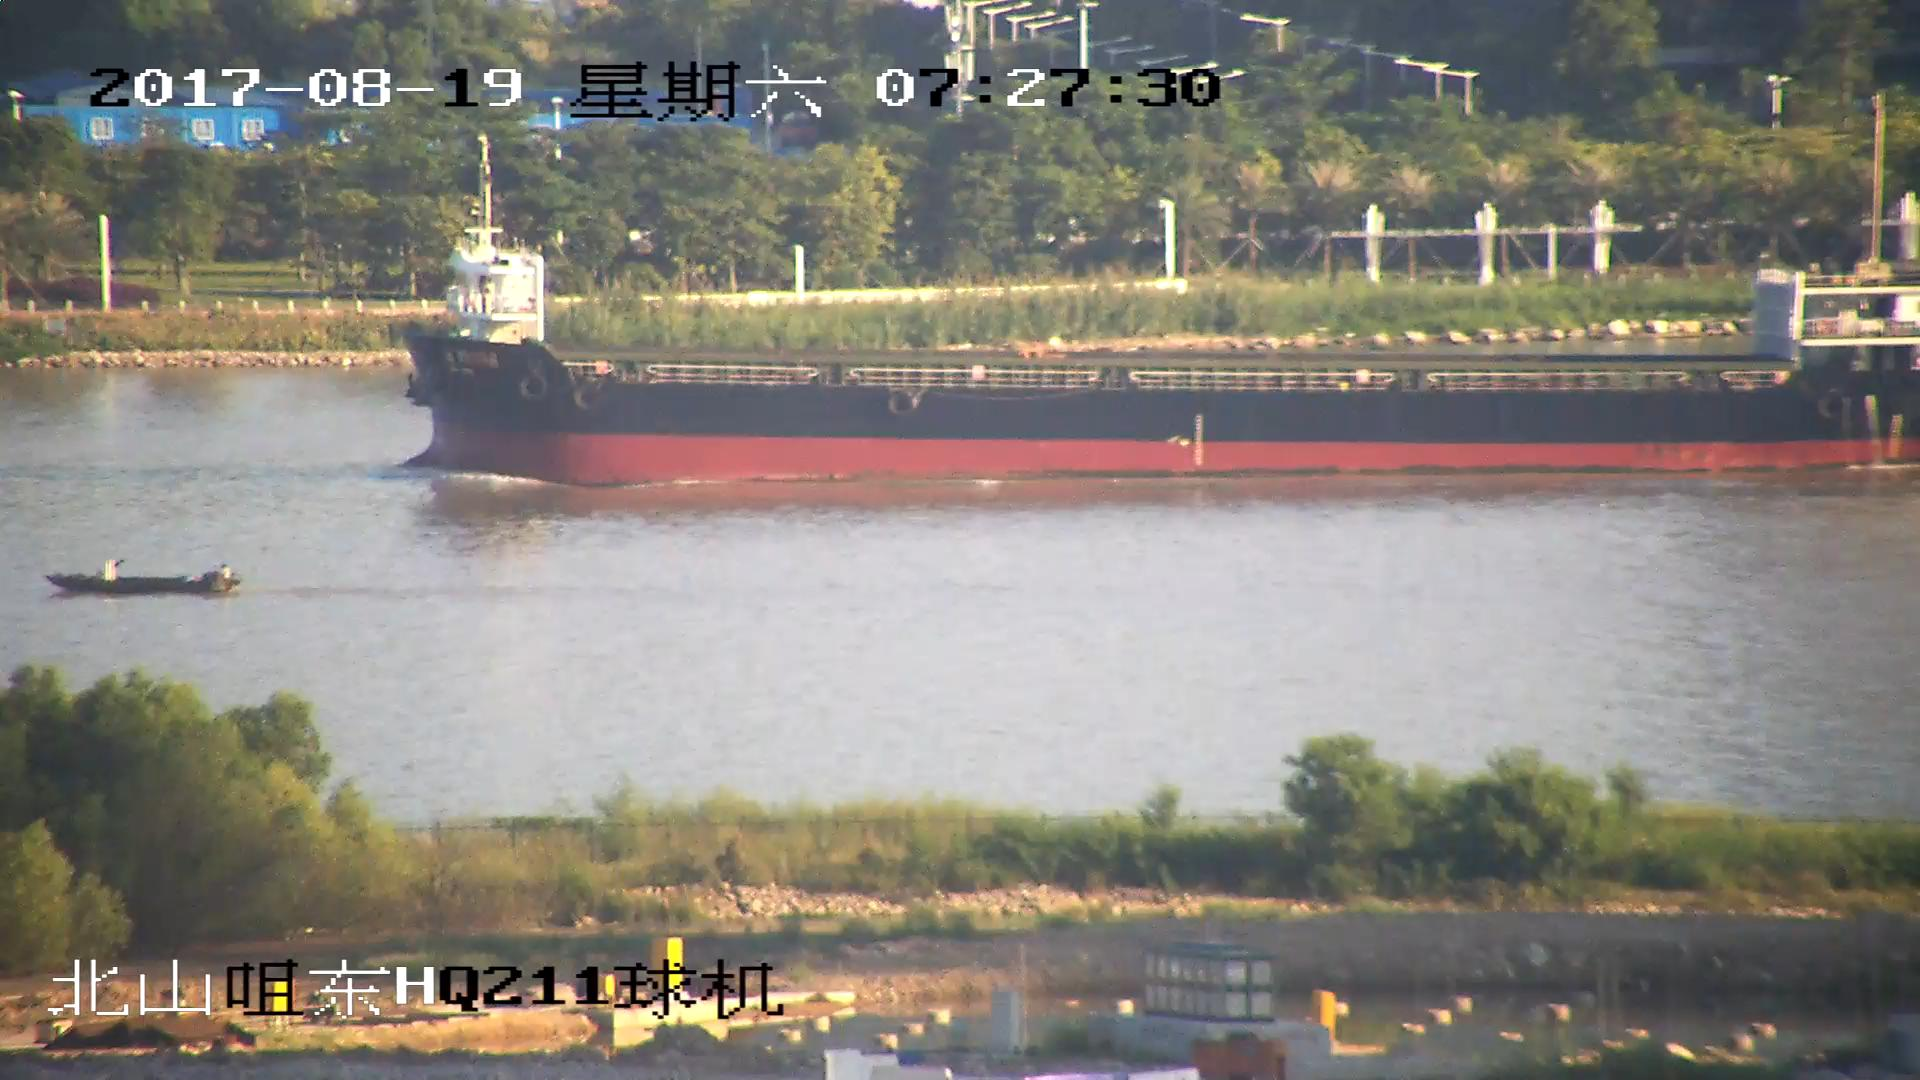fishing boat: (53, 552, 237, 596)
general cargo ship: (405, 212, 1920, 475)
